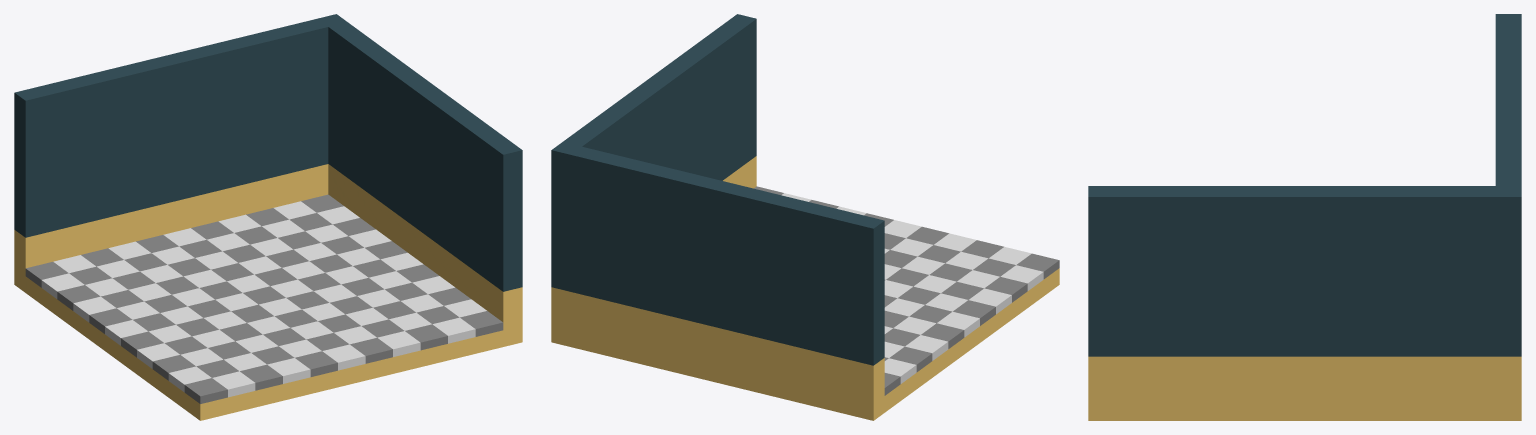
File: WallGround.fbx
The picture shows the model from 3 angles, left to right: view 1: azimuth 30°, elevation 25°; view 2: azimuth 150°, elevation 25°; view 3: azimuth 270°, elevation 25°; orthographic projection. The views are drawn at different scales.
Visible parts, largest first — view 1: Ground.002, Ground.001; view 2: Ground.002, Ground.001; view 3: Ground.002.
Boxes of the visible parts, x1,y1,x2,y2 form: Ground.002: [14, 14, 522, 346]; Ground.001: [25, 194, 503, 420]; Ground.002: [551, 14, 884, 420]; Ground.001: [754, 186, 1059, 412]; Ground.002: [1088, 14, 1521, 420].
Bounding box in the file's own units: 718 × 409 × 718.
